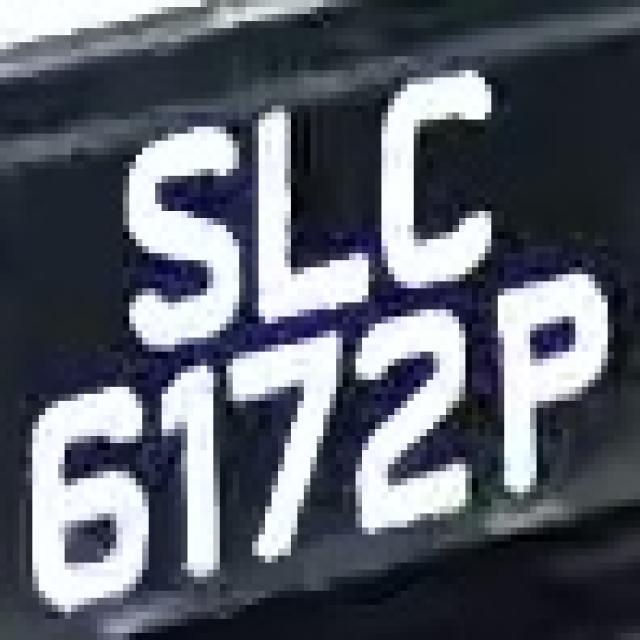1: (162, 344, 232, 590)
2: (336, 295, 472, 563)
6: (7, 373, 148, 612)
7: (206, 330, 342, 556)
C: (362, 56, 511, 316)
L: (226, 85, 368, 338)
P: (466, 267, 614, 514)
S: (103, 98, 265, 352)
